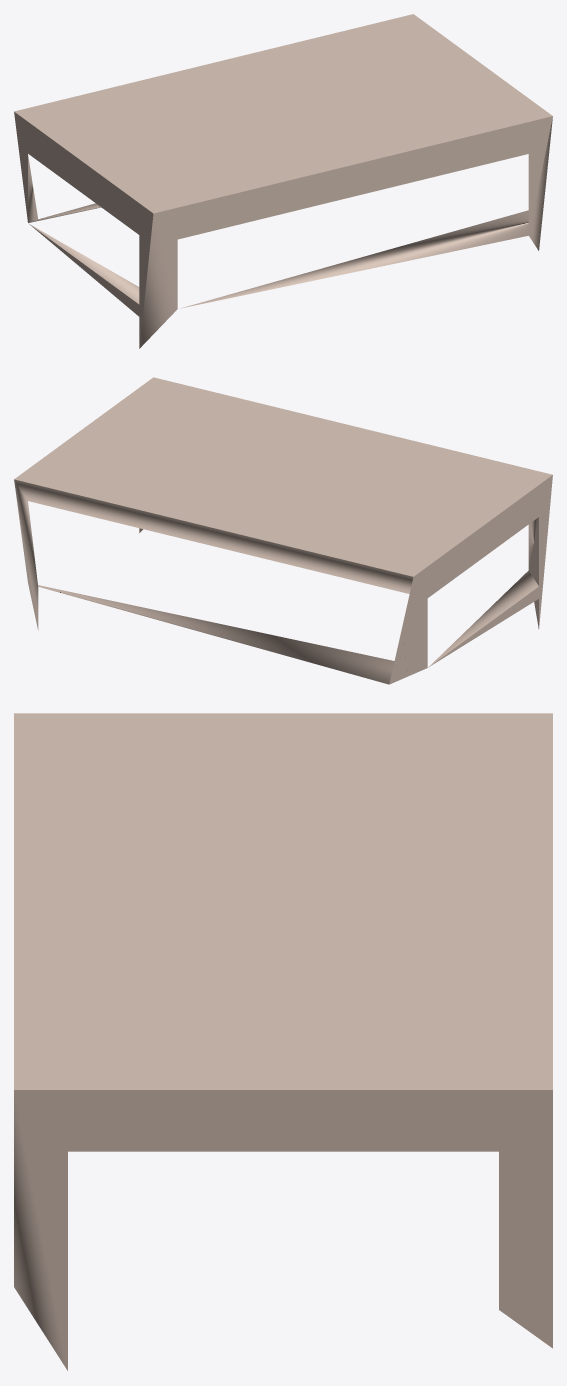
Rendered from tableCoffee.glb.
The picture shows the model from 3 angles, top to bottom: view 1: azimuth 30°, elevation 25°; view 2: azimuth 150°, elevation 25°; view 3: azimuth 270°, elevation 25°; orthographic projection. The views are drawn at different scales.
Parts seen in each view (by area): view 1: tableCoffee(Clone); view 2: tableCoffee(Clone); view 3: tableCoffee(Clone).
Part boxes in pixels (left/top/right/bottom): tableCoffee(Clone): left=14, top=14, right=552, bottom=348; tableCoffee(Clone): left=14, top=377, right=552, bottom=684; tableCoffee(Clone): left=14, top=713, right=552, bottom=1370.
Bounding box in the file's own units: 0.661 × 0.2303 × 0.3997.
